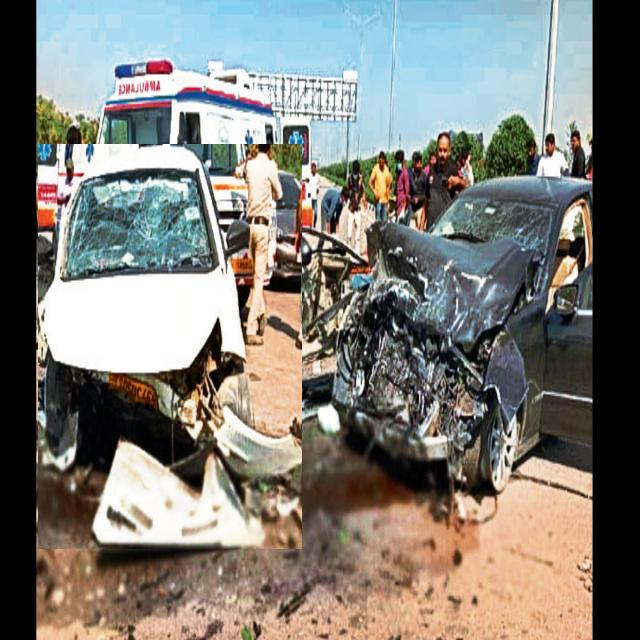accident: (38, 145, 302, 549)
